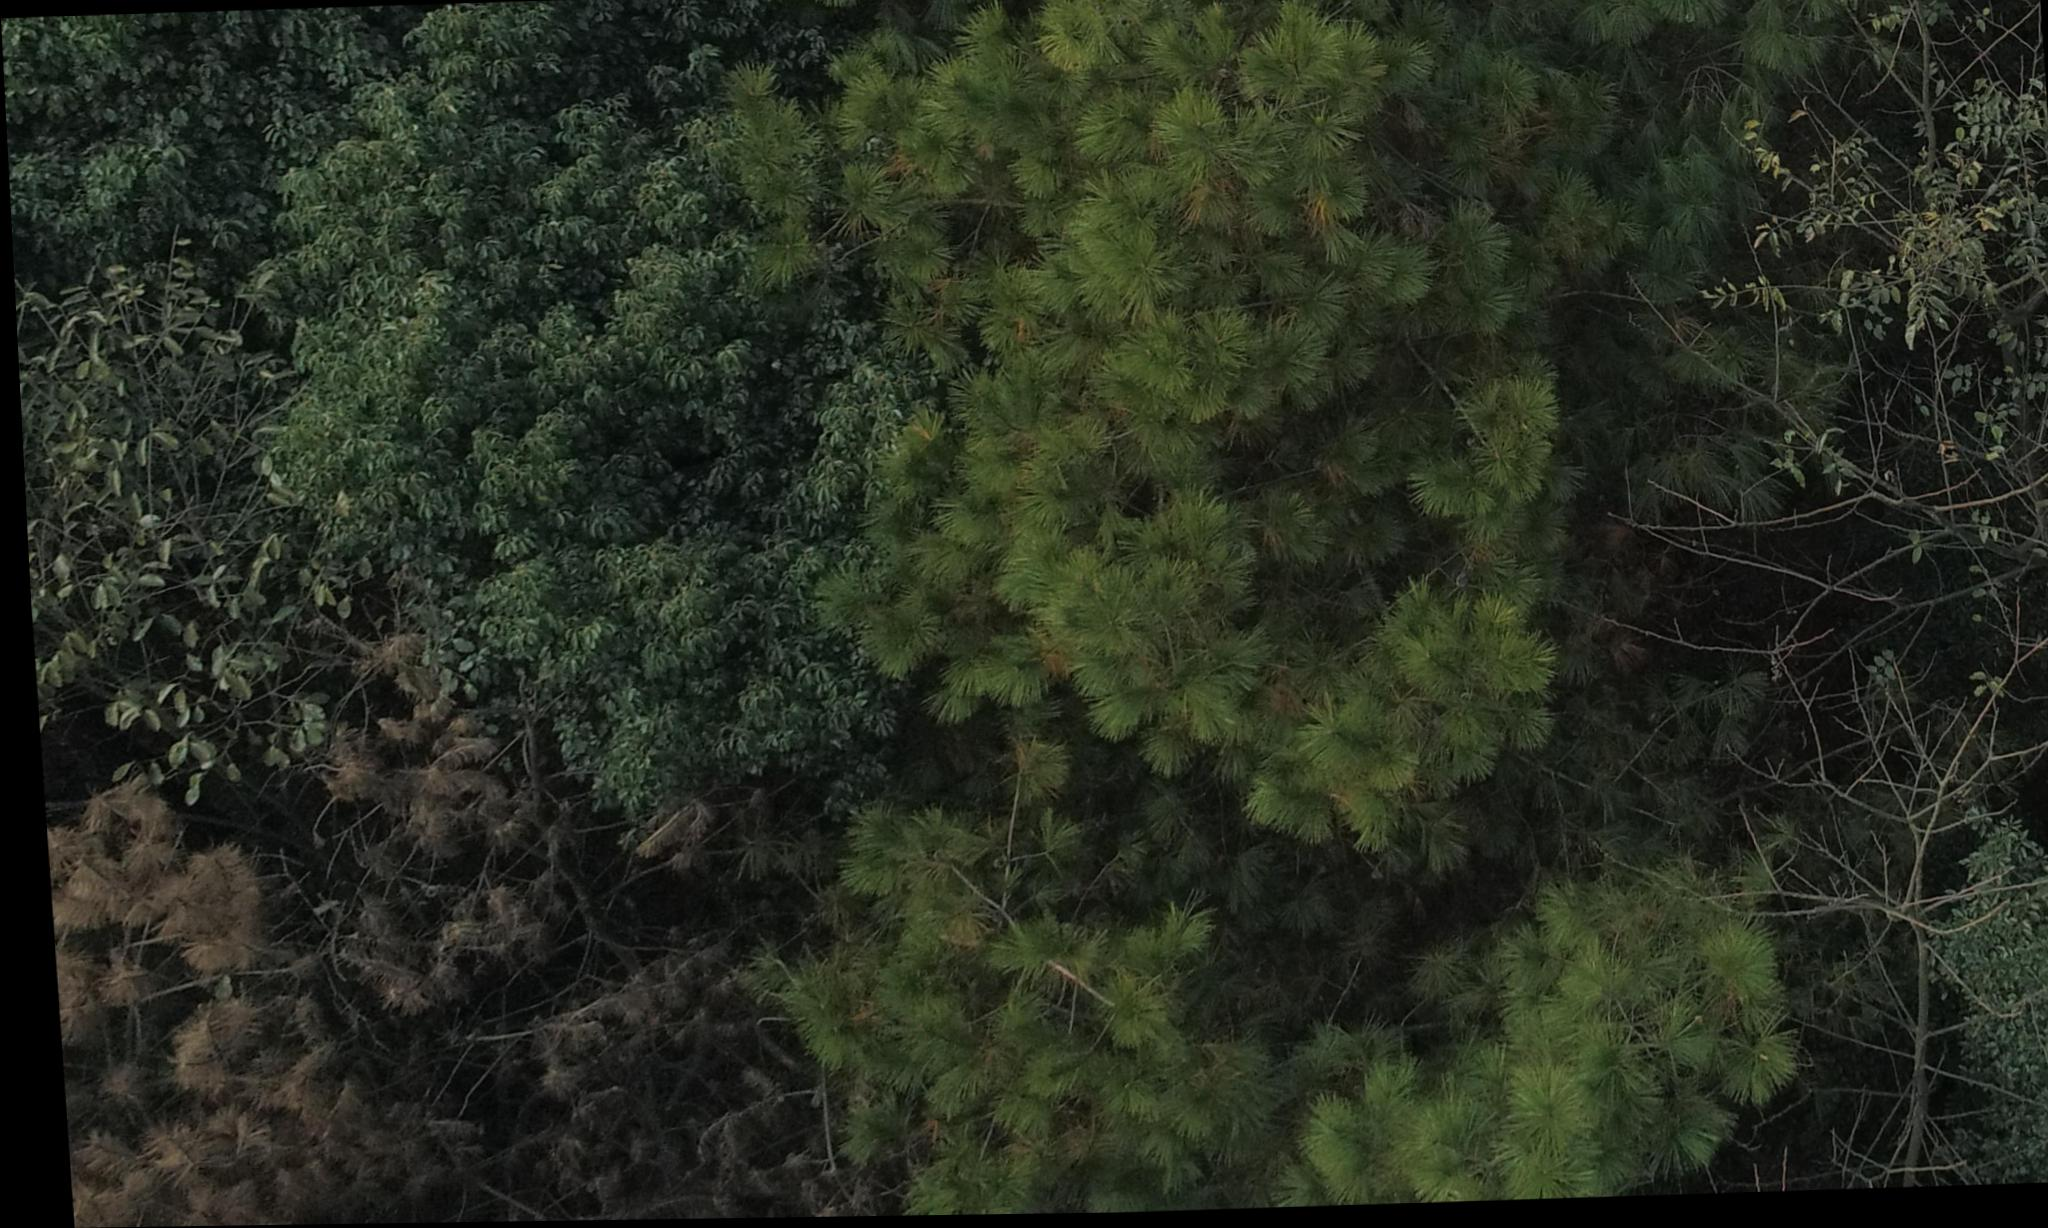heavy: (53, 709, 536, 1228)
